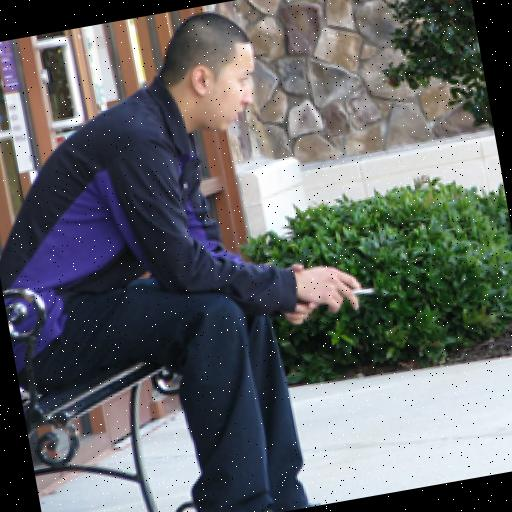terdeteksi pegang rokok: (296, 234, 390, 346)
